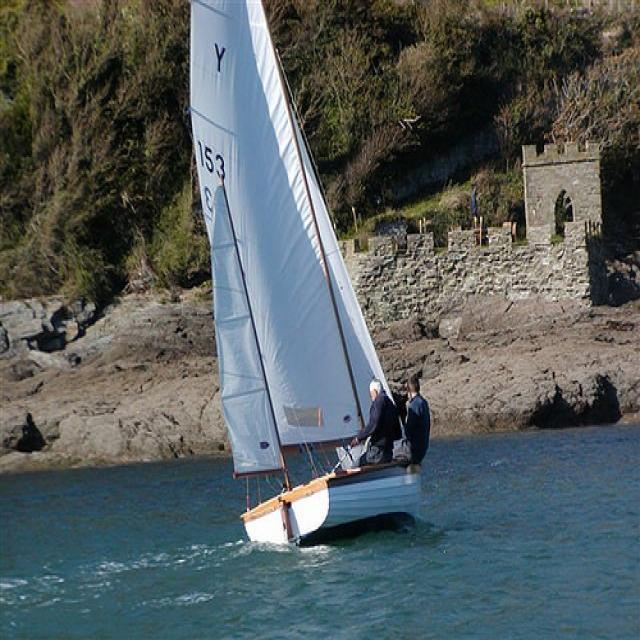Ship: (177, 4, 437, 555)
